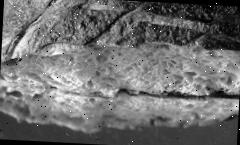organic: (52, 45, 218, 98)
